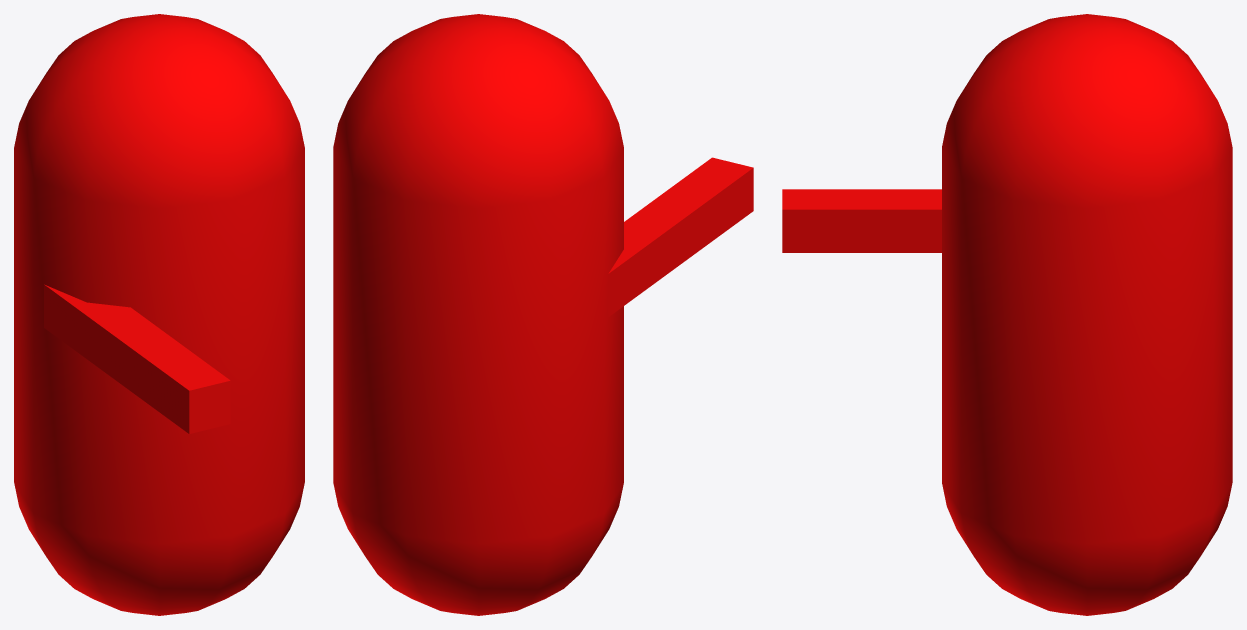
File: player.fbx
The picture shows the model from 3 angles, left to right: view 1: azimuth 30°, elevation 25°; view 2: azimuth 150°, elevation 25°; view 3: azimuth 270°, elevation 25°; orthographic projection.
Parts seen in each view (by area): view 1: Sphere, Cube; view 2: Sphere, Cube; view 3: Sphere, Cube.
Boxes of the visible parts, x1,y1,x2,y2 form: Sphere: (14, 14, 304, 615); Cube: (44, 284, 230, 433); Sphere: (333, 14, 623, 615); Cube: (608, 157, 753, 316); Sphere: (942, 14, 1232, 615); Cube: (782, 189, 941, 252).
Bounding box in the file's own units: 67.82 × 148 × 105.
